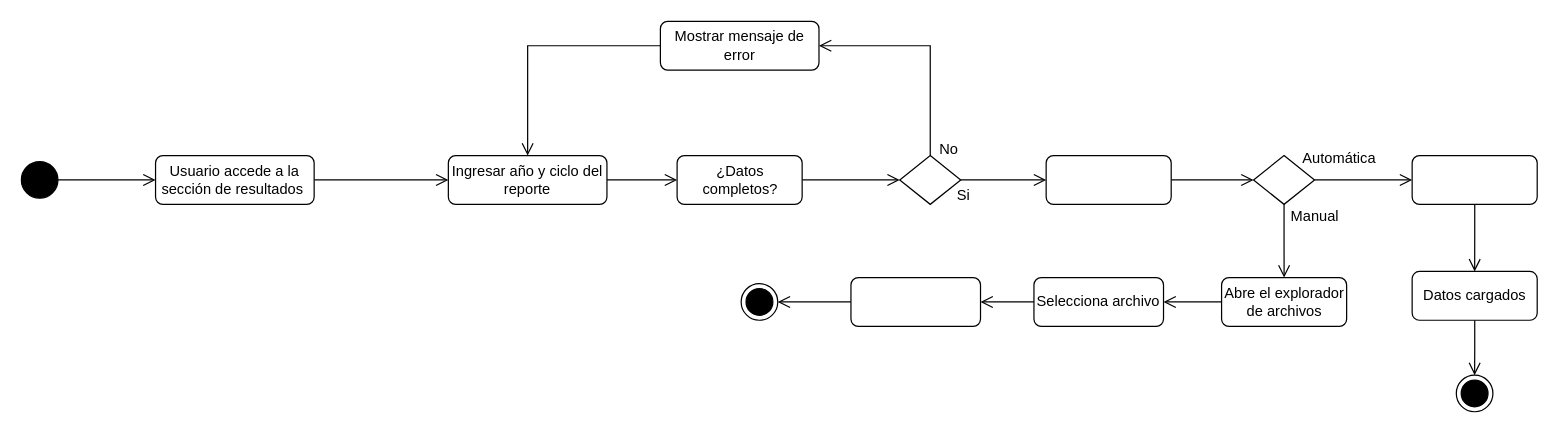
Image size: 1559x433. Some labels were removed from this diagram. Each missing label, with the centre of its shape:
Archivo cargado: (915,301)
Conexión a Datos Abiertos: (1474,179)
¿Carga manual o automática?: (1108,179)
